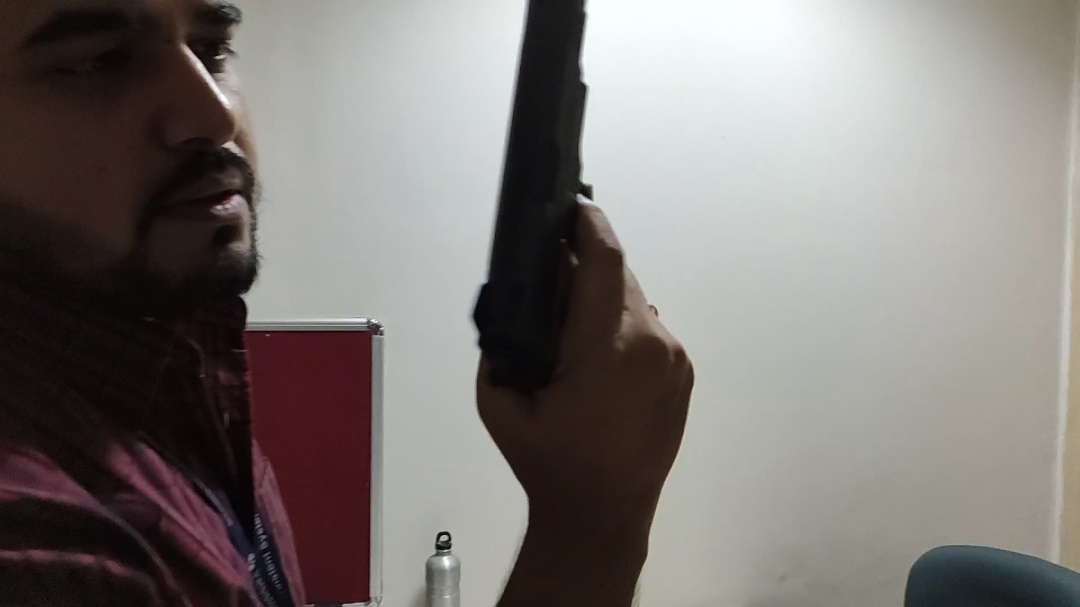gun: (461, 4, 642, 397)
